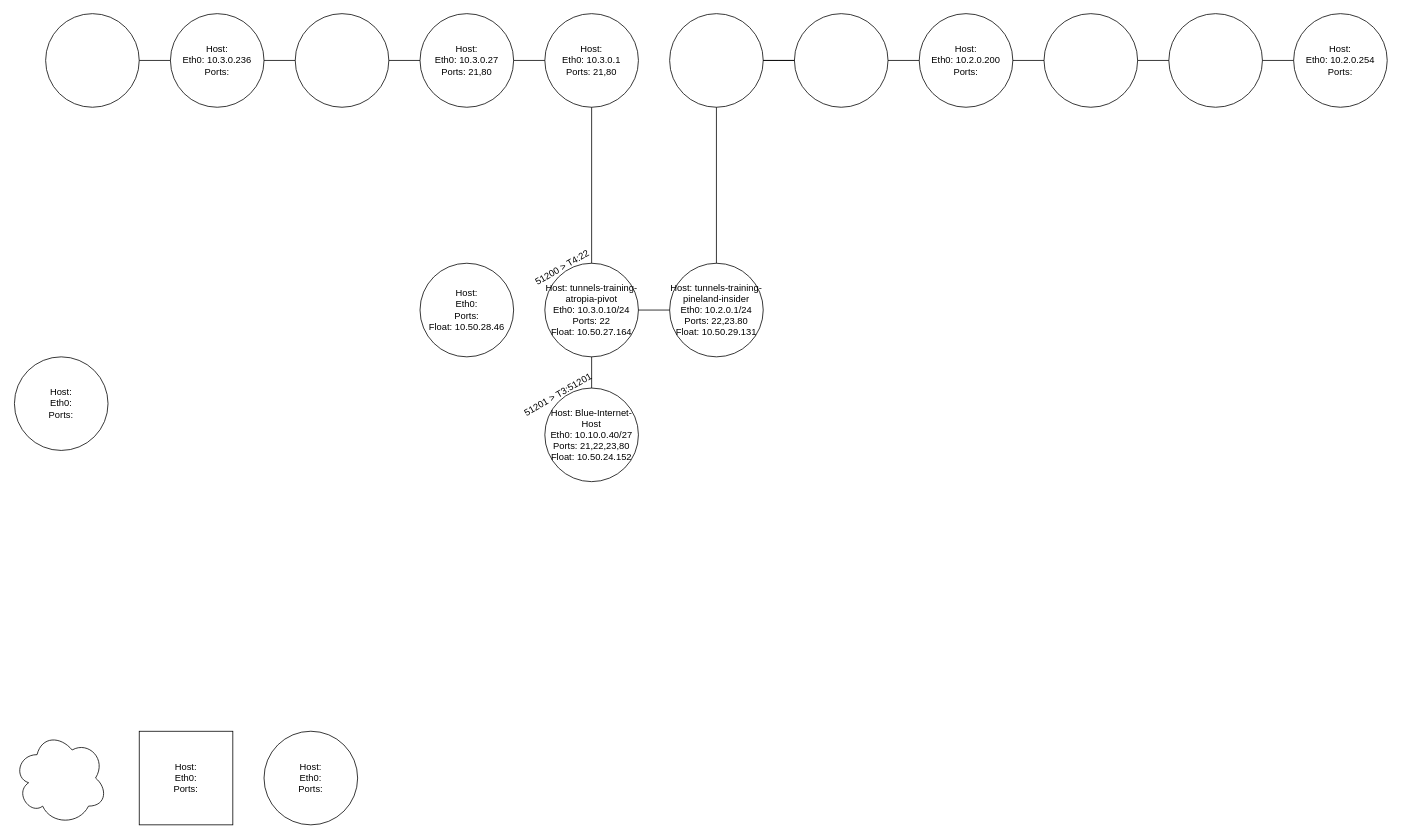
Some shapes in this 1401 by 838 pixel diagram are drawn without their labels. Each missing label, with the box of its shape:
Host: Eth0: 10.2.0.2 Ports:: (669, 13, 763, 107)
Host: Eth0: 10.2.0.201 Ports:: (1043, 13, 1138, 107)
Host: Eth0: 10.2.0.245 Ports:: (1168, 13, 1262, 107)
Host: Eth0: 10.2.0.3 Ports:: (794, 13, 888, 107)
Host: Eth0: 10.3.0.200 Ports:: (294, 13, 389, 107)
Host: Eth0: 10.3.0.254 Ports:: (45, 13, 139, 107)
